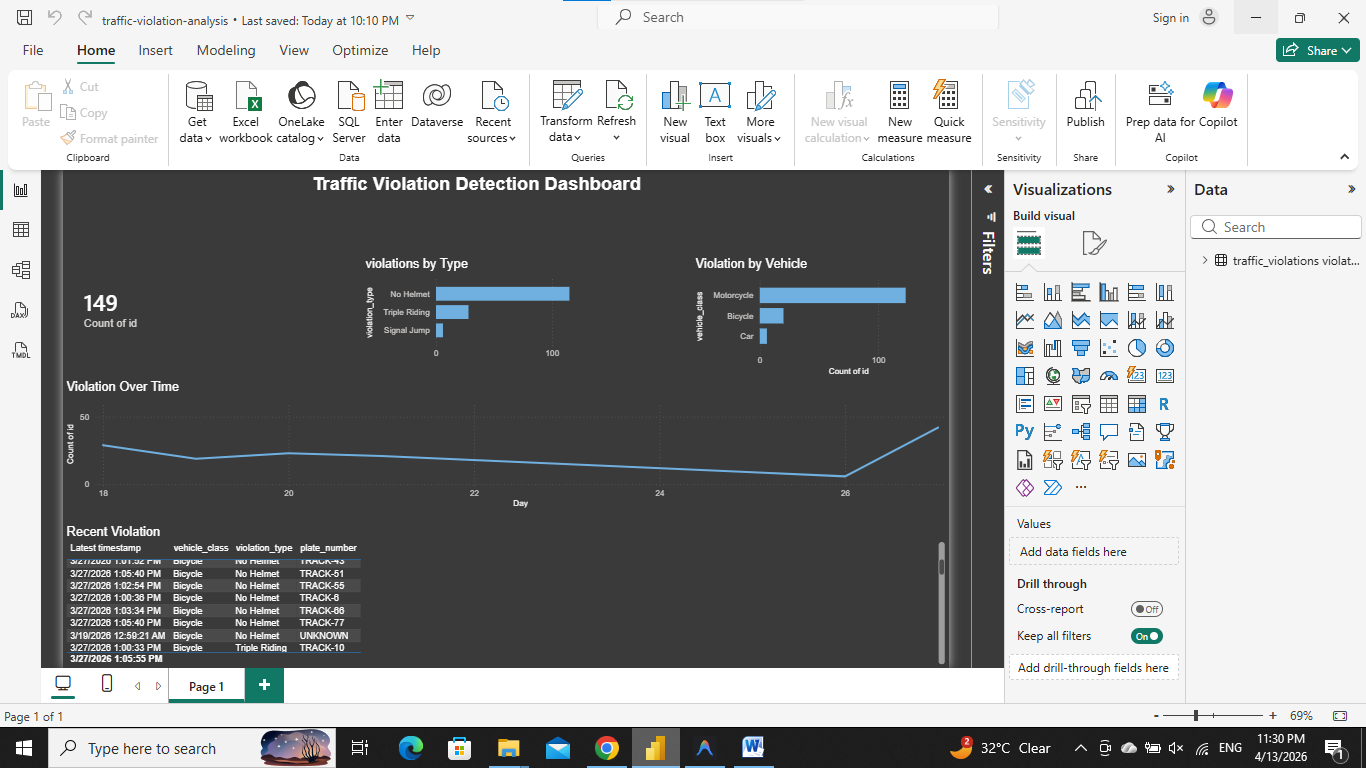

The page's visual inventory and layout, read from the dashboard file:
{"tool":"powerbi","page":{"name":"Page 1","canvas":[1280,720],"ordinal":0},"visuals":[{"type":"cardVisual","fields":{"Data":["CountNonNull(traffic_violations violations.id)"]},"box":[0,102.5,372.9,193.2],"z":0},{"type":"clusteredBarChart","title":" violations by Type","fields":{"Category":["traffic_violations violations.violation_type"],"Y":["CountNonNull(traffic_violations violations.id)"]},"box":[431.7,124.3,374.6,156.2],"z":1000},{"type":"clusteredBarChart","title":"Violation by Vehicle","fields":{"Y":["CountNonNull(traffic_violations violations.id)"],"Category":["traffic_violations violations.vehicle_class"]},"box":[908.8,124.3,371.2,178.1],"z":2000},{"type":"lineChart","title":"Violation Over Time","fields":{"Category":["traffic_violations violations.timestamp.Variation.Date Hierarchy.Day"],"Y":["CountNonNull(traffic_violations violations.id)"]},"box":[0,302.4,1280,191.5],"z":3000},{"type":"tableEx","title":"Recent Violation","fields":{"Values":["traffic_violations violations.timestamp","traffic_violations violations.vehicle_class","traffic_violations violations.violation_type","traffic_violations violations.plate_number"]},"box":[0,512.3,1280,208.3],"z":4000},{"type":"textbox","box":[0,0,1280,84],"z":5000}]}

Visuals, with their boxes on the page's 1280x720 design canvas (x1, y1, x2, y2). These are canvas units, not pixel positions in the 1366x768 screenshot, which may show the page scaled, cropped or inside an application window:
cardVisual - CountNonNull(traffic_violations violations.id): pyautogui.locateOnScreen(0, 102, 373, 296)
" violations by Type" clusteredBarChart: pyautogui.locateOnScreen(432, 124, 806, 280)
"Violation by Vehicle" clusteredBarChart: pyautogui.locateOnScreen(909, 124, 1280, 302)
"Violation Over Time" lineChart: pyautogui.locateOnScreen(0, 302, 1280, 494)
"Recent Violation" tableEx: pyautogui.locateOnScreen(0, 512, 1280, 721)
textbox: pyautogui.locateOnScreen(0, 0, 1280, 84)
